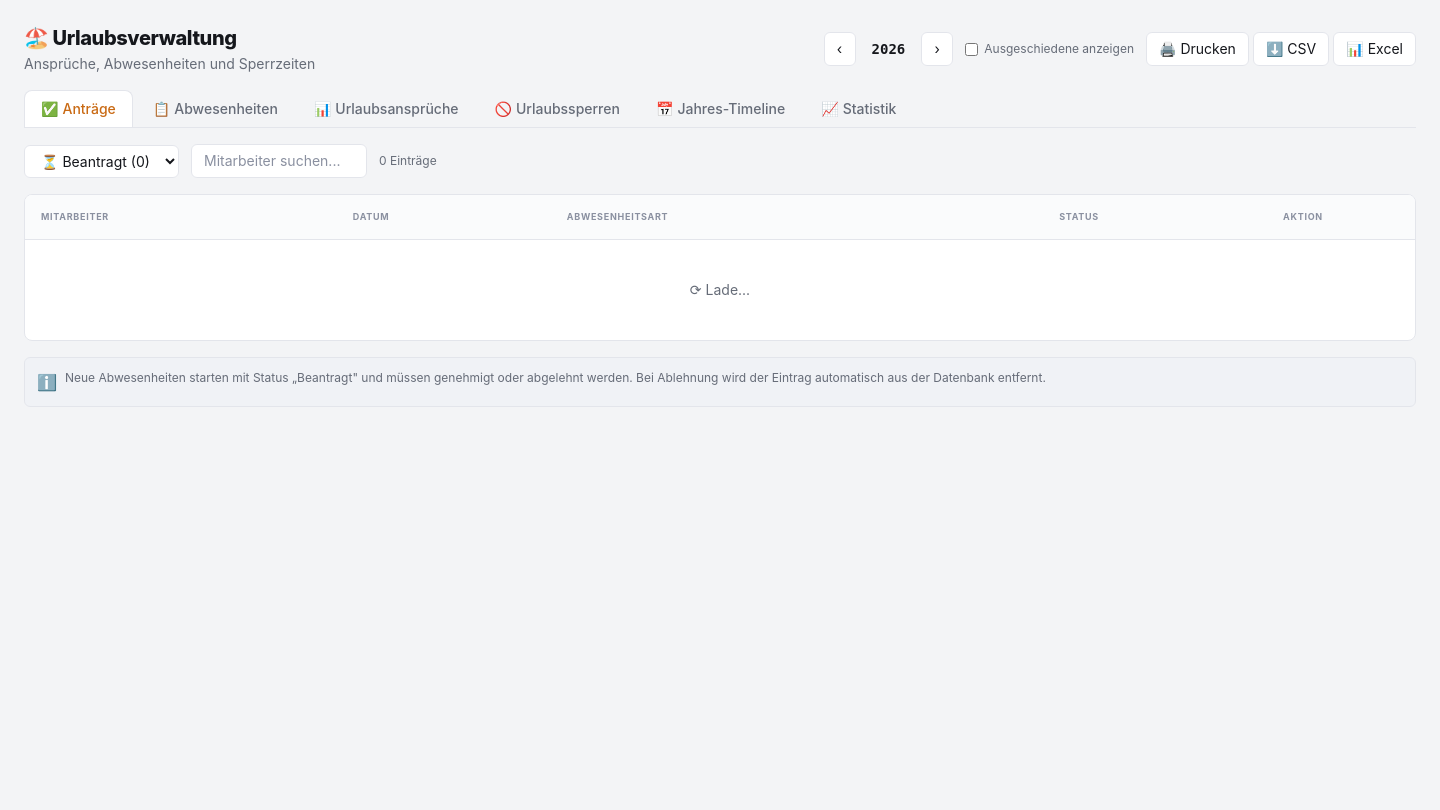
Urlaub — WABSENCES-Gating (G-1) › ohne wabsences: keine direkte Erfassung im Abwesenheiten-Tab
Click the button "📋 Abwesenheiten" at (215, 108), box [137,90,294,127]
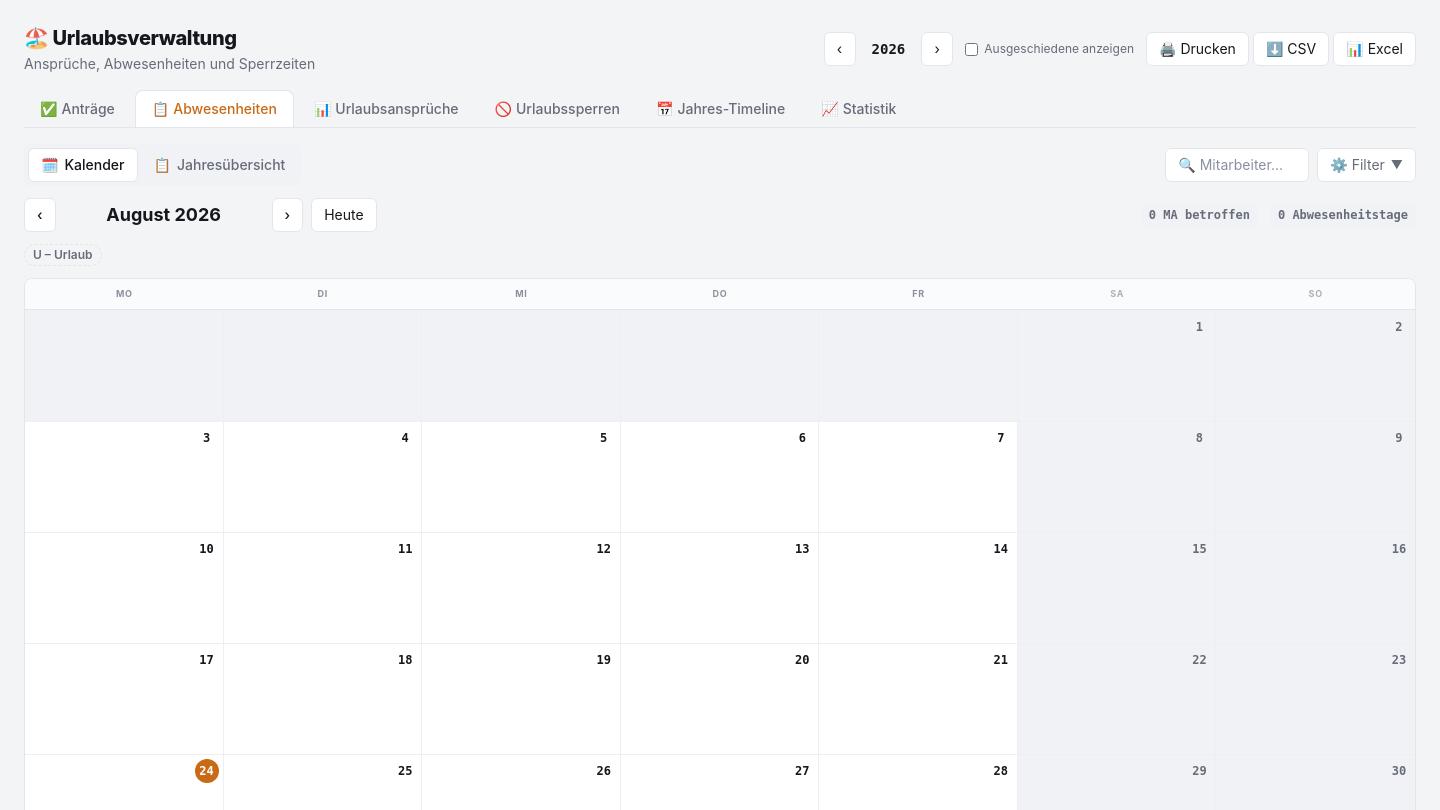
Now the text "Jahresübersicht" is shown, box [177,155,285,175]
